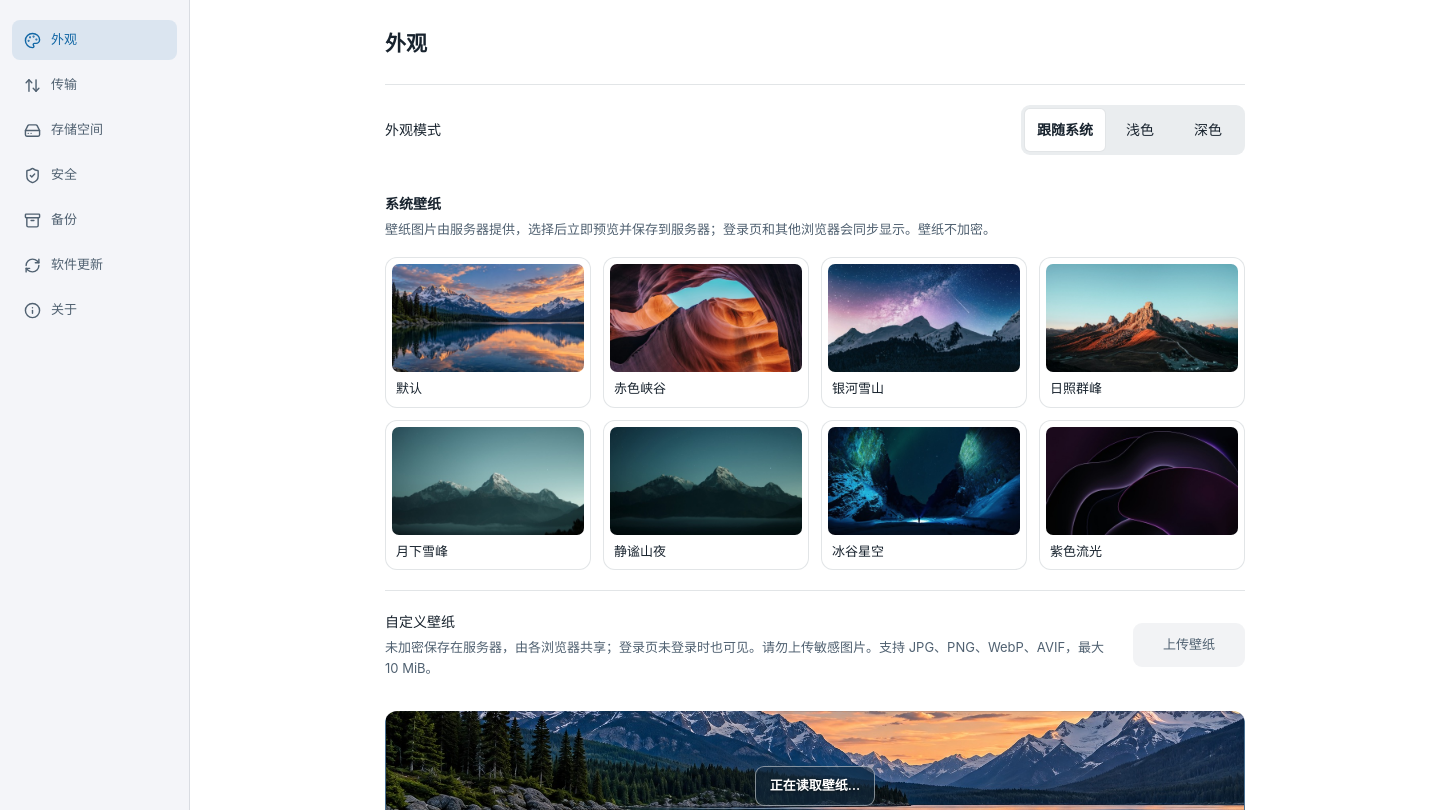
Test case: shows actionable server guidance when an update request is rejected
This screenshot has width=1440, height=810.
Click the button "软件更新".
click(94, 265)  # box [12,245,177,285]
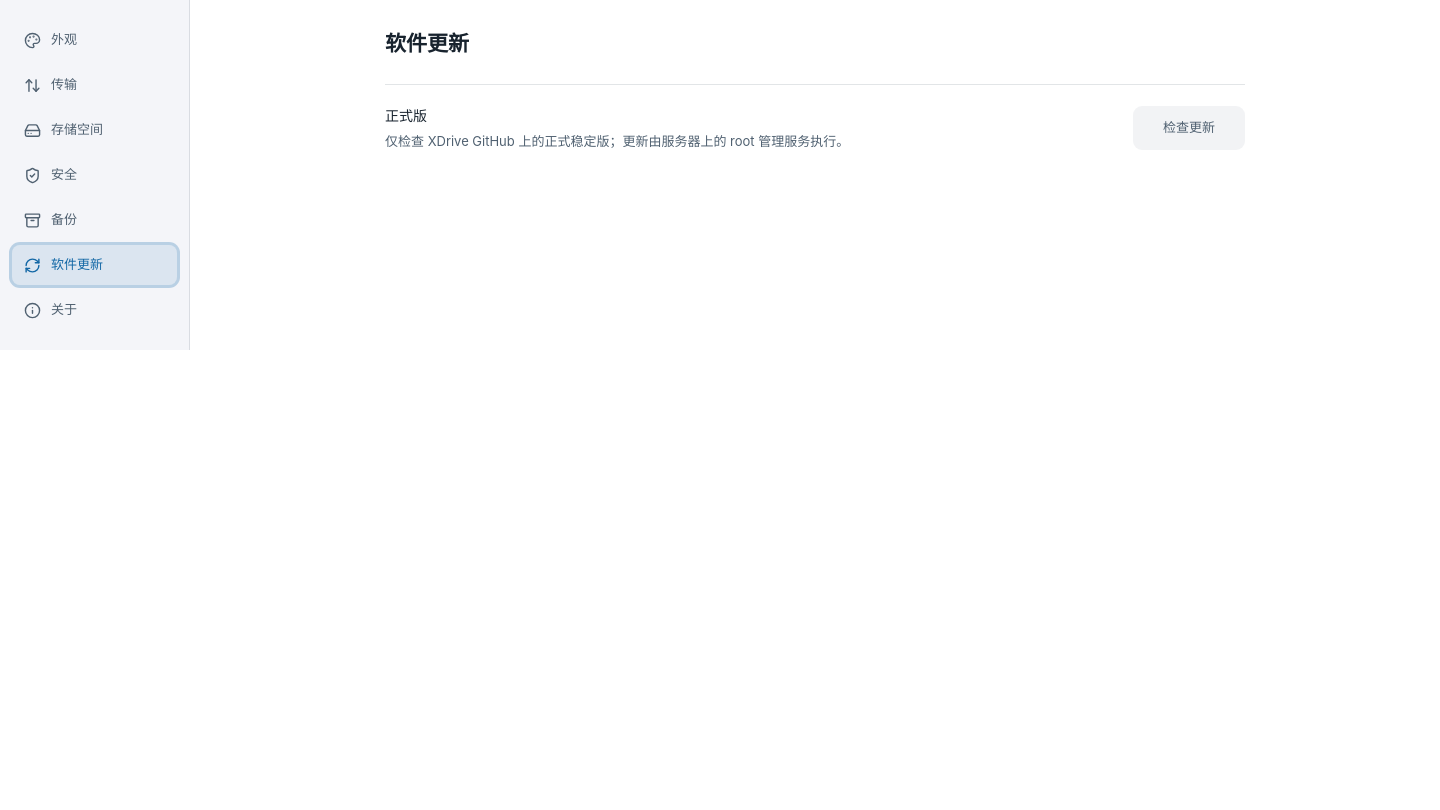
Click the button "检查更新".
click(1189, 128)  # box [1133,106,1245,150]
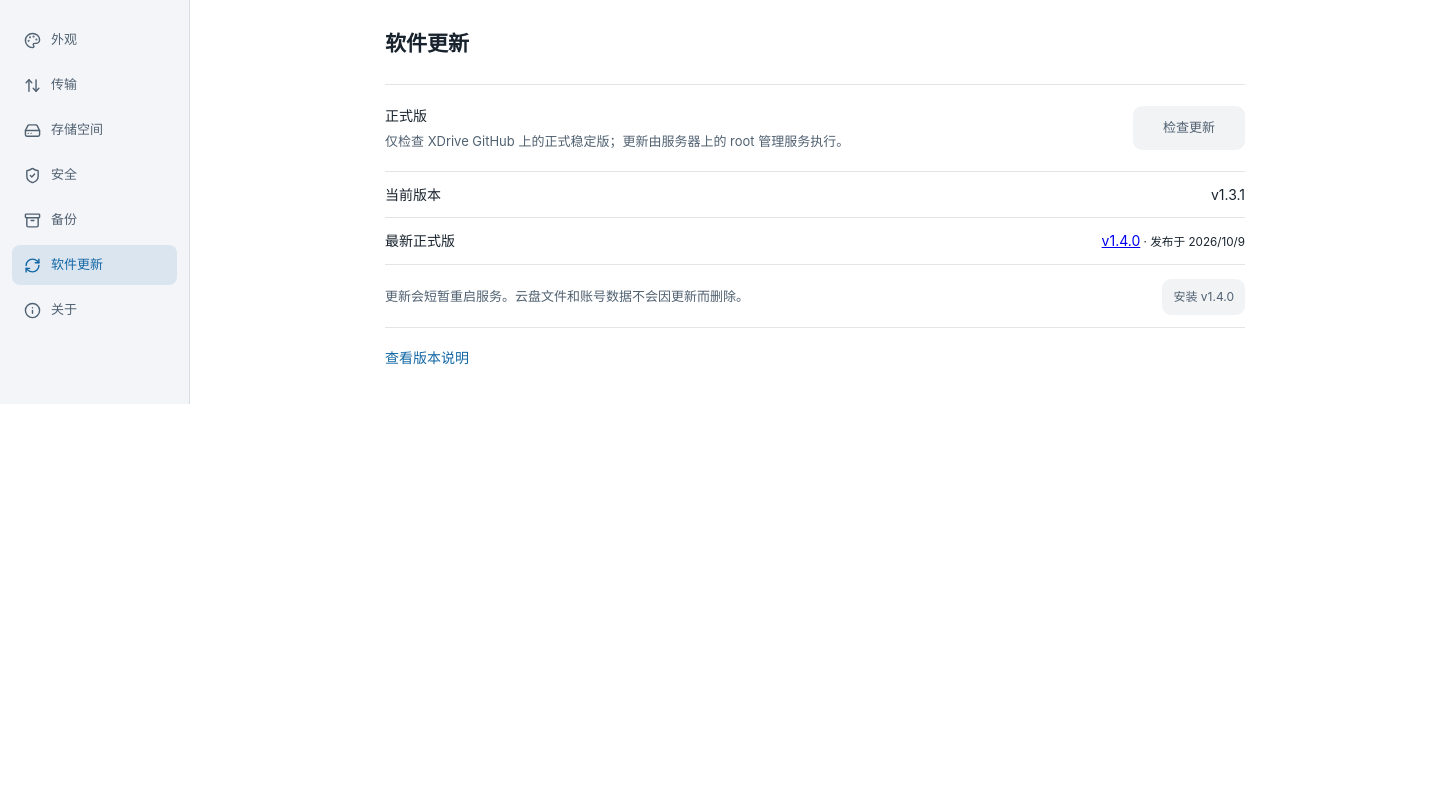
Expected: the link "v1.4.0" is shown, [1102,232,1140,249]
Click the button "安装 v1.4.0".
click(1204, 297)  # box [1162,279,1245,315]
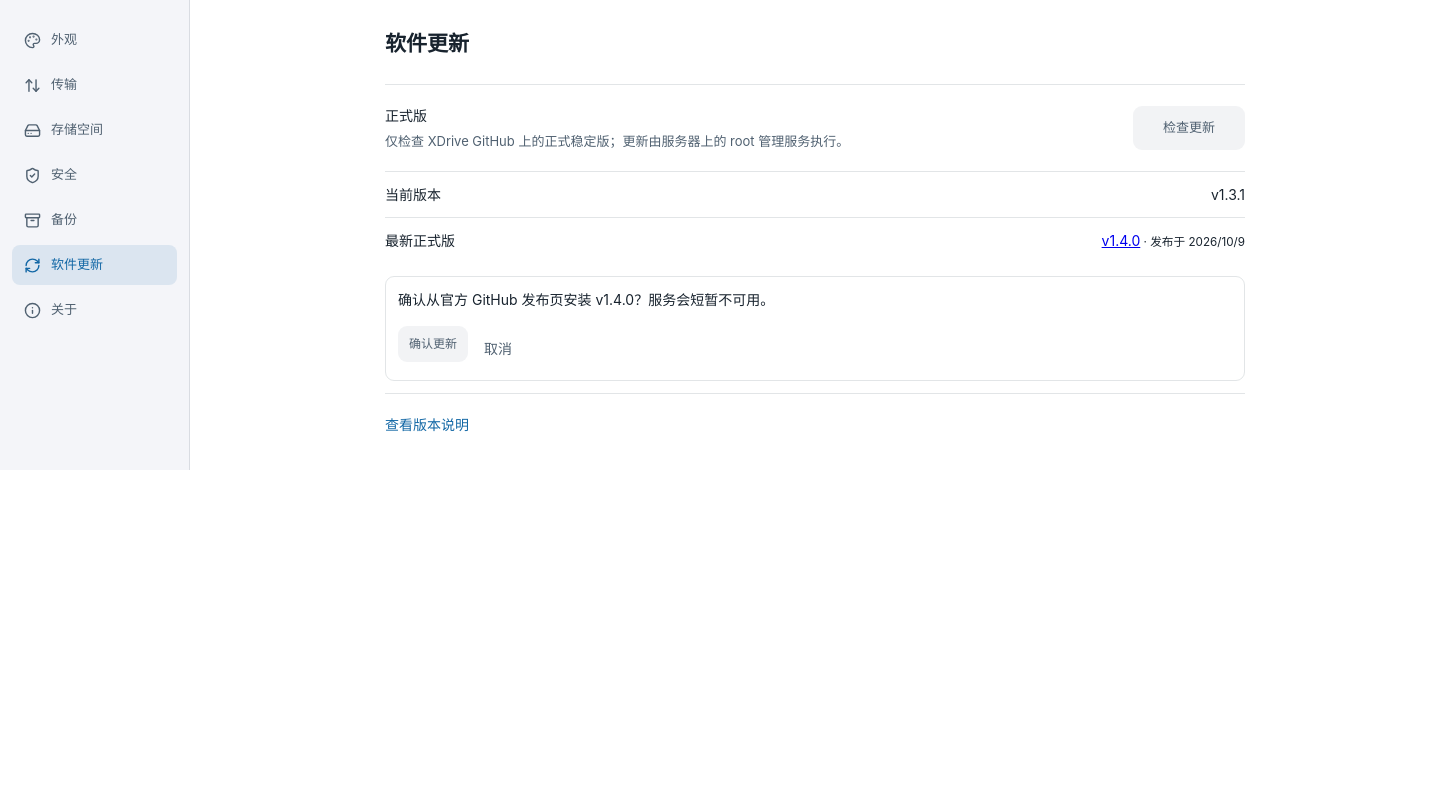
Click the button "确认更新".
click(433, 344)  # box [398,326,468,362]
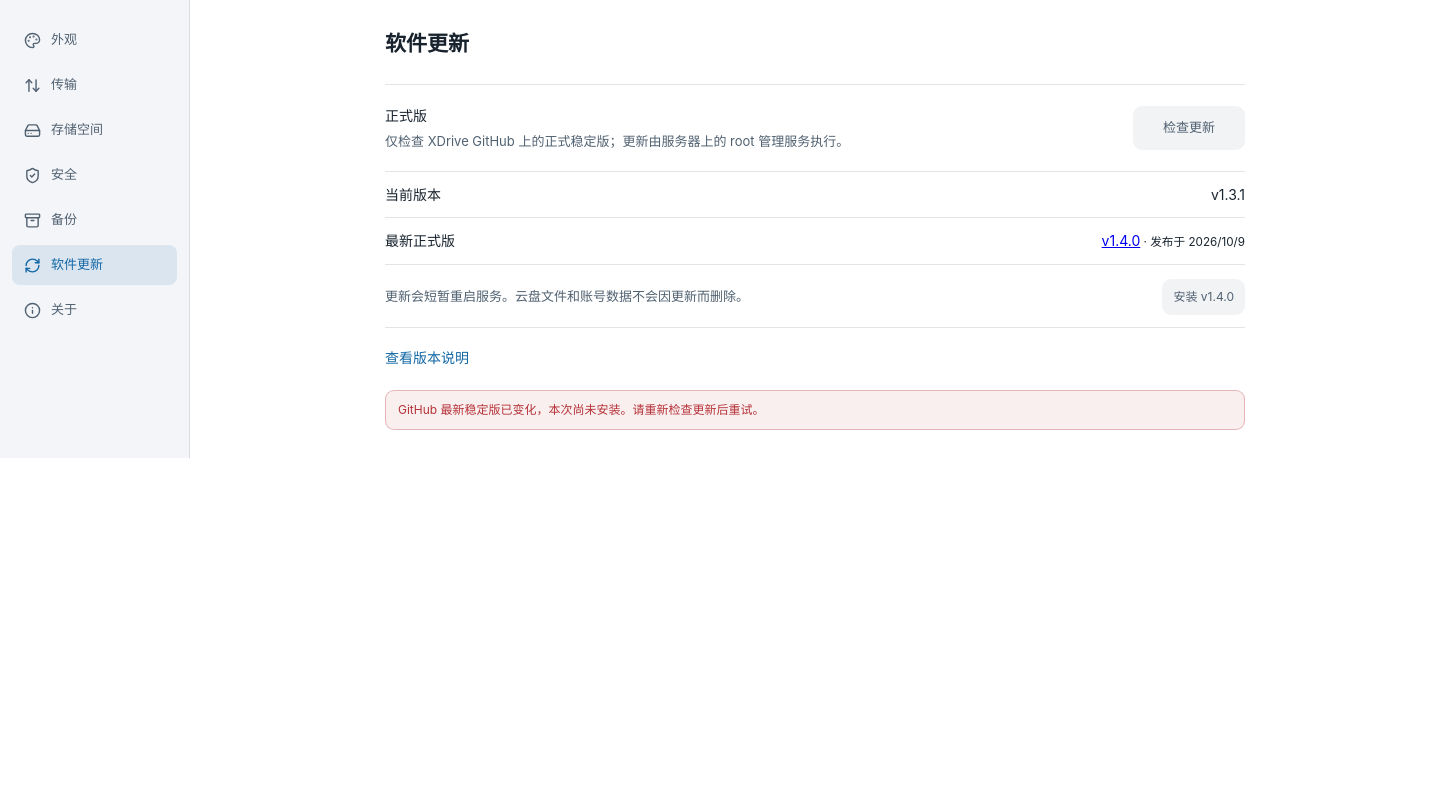
Expected: the text "GitHub 最新稳定版已变化，本次尚未安装。请重新检查更新后重试。" is shown, [385,390,1245,430]
